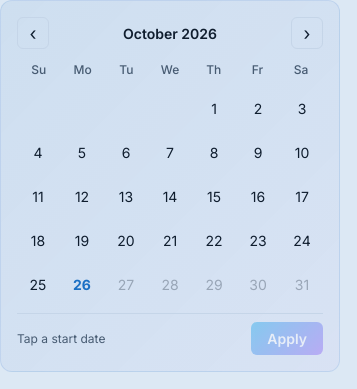
Test: DateRangePicker › selects a start date on first click
Click the button "1".
click(214, 108)  # box [193,87,235,129]
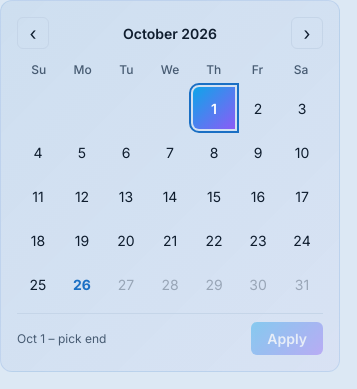
Now the text "Oct 1 – pick end" is shown, box [17,330,106,348]
